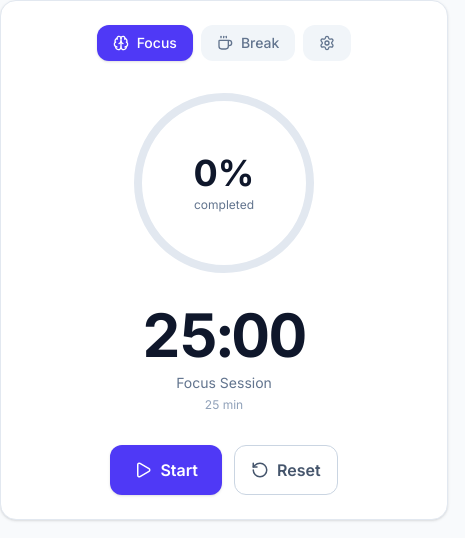
Scenario: Timer › starts countdown when Start is pressed
The width and height of the screenshot is (465, 538).
Click the button "Start" at [166, 470], box [110, 445, 222, 495]
Wait 2000 ms
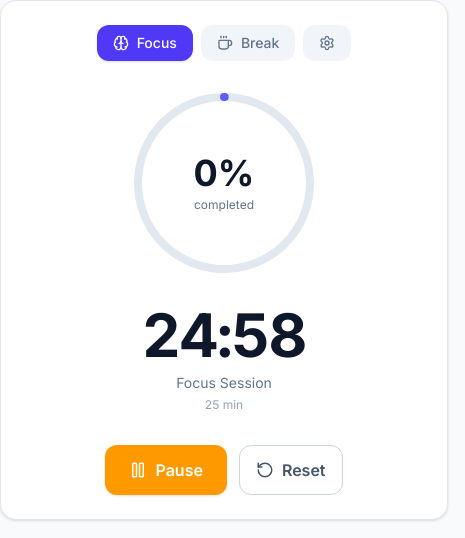
Check: the text "24:58" is shown, box [142, 299, 306, 371]
Check: the button "Pause" is shown, box [106, 445, 227, 495]
